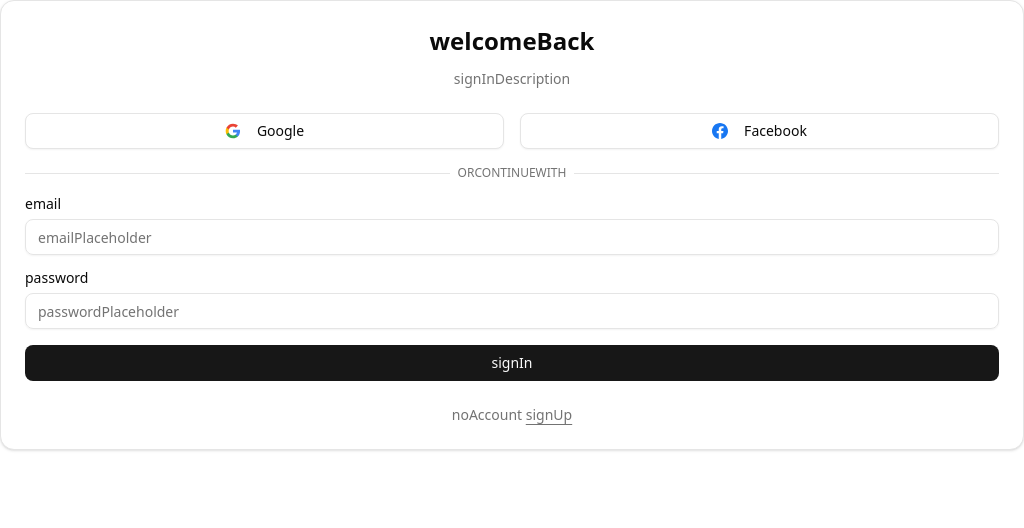
it: SignInPage › handles rate limit error
Step 1. Type "test@example.com" into the field with test id "email-input" → (512, 237), box [25, 219, 999, 255]
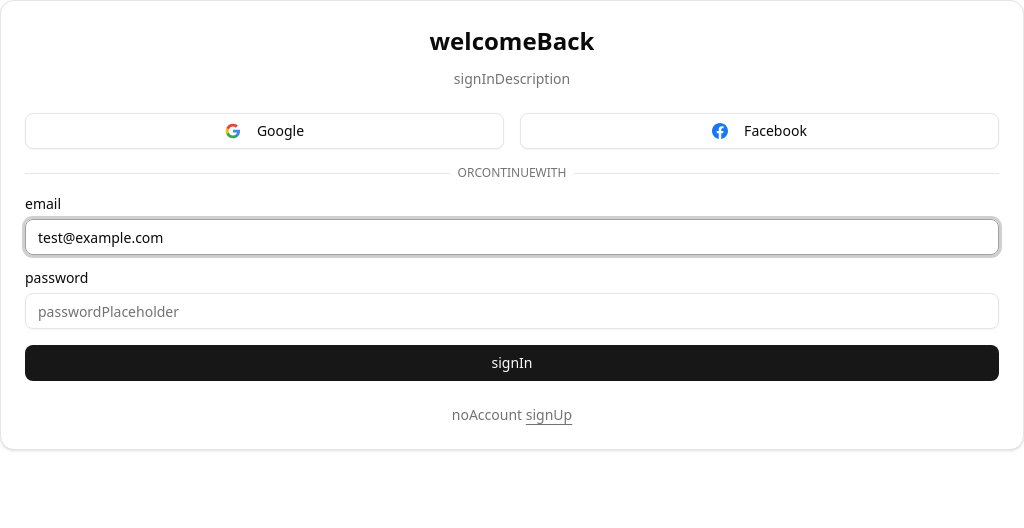
Step 2. Type "password" into the password field with test id "password-input" → (512, 311), box [25, 293, 999, 329]
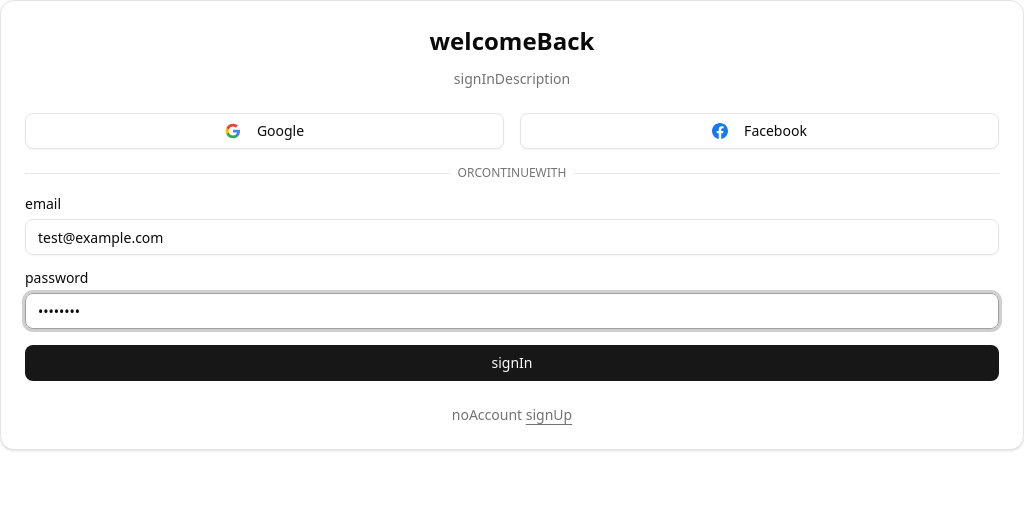
Step 3. Click the button with test id "signin-submit" → click(512, 363), box [25, 345, 999, 381]
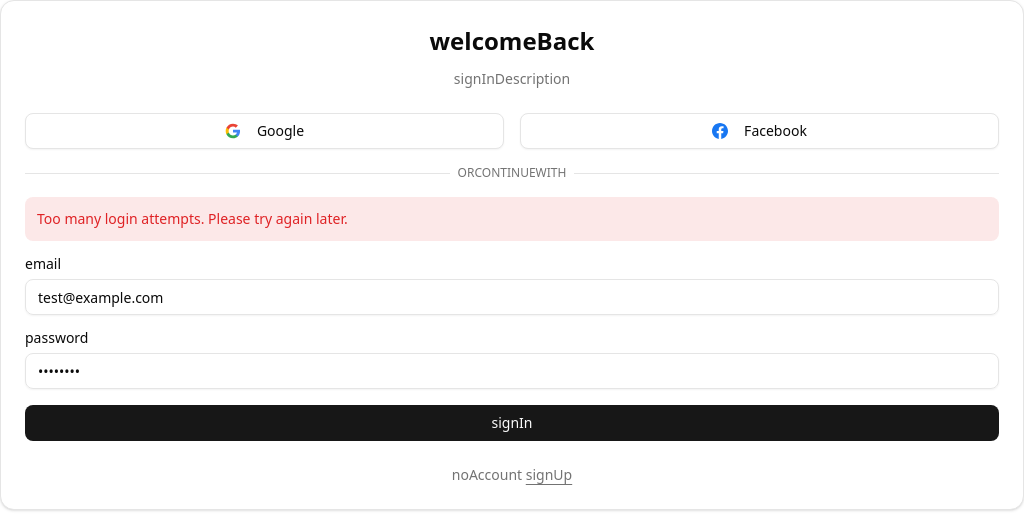
expect the text with test id "signin-error" reads "Too many login attempts. Please try again later.": met, box [37, 209, 348, 228]
